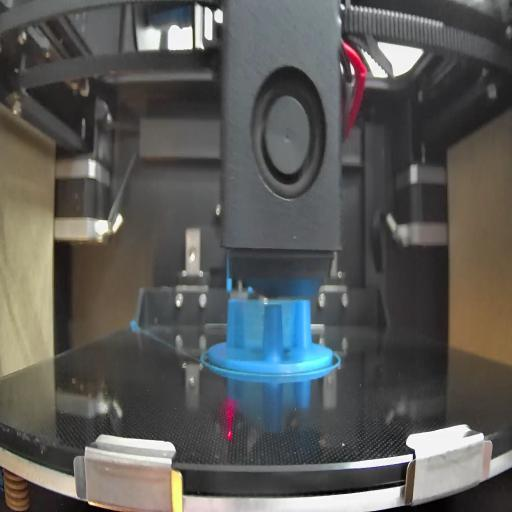stringing: (238, 298, 262, 352), (284, 298, 299, 355)
